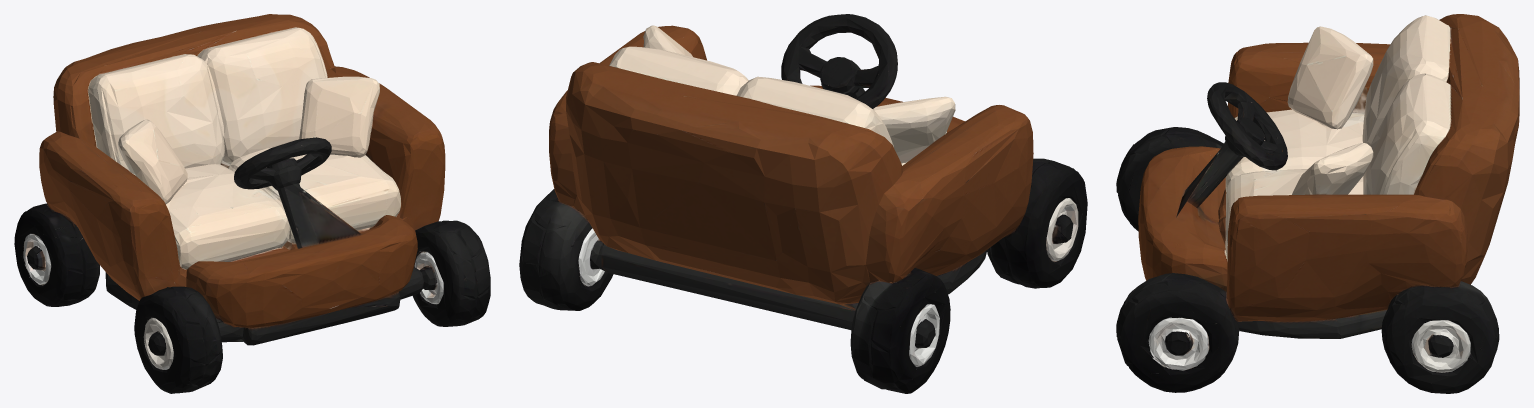
File: couch_cruiser.glb
3 renders of one model, left to right at view 1: azimuth 30°, elevation 25°; view 2: azimuth 150°, elevation 25°; view 3: azimuth 270°, elevation 25°, orthographic. The views are drawn at different scales.
Visible parts, largest first — view 1: geometry_0; view 2: geometry_0; view 3: geometry_0.
Part boxes in pixels (box(x1,y1,x2,y2)): geometry_0: box(14, 14, 490, 393); geometry_0: box(519, 14, 1087, 393); geometry_0: box(1116, 14, 1519, 393).
Size of the model in its own units: 1.9 by 1.22 by 1.82.
1 material, 1 textured.
